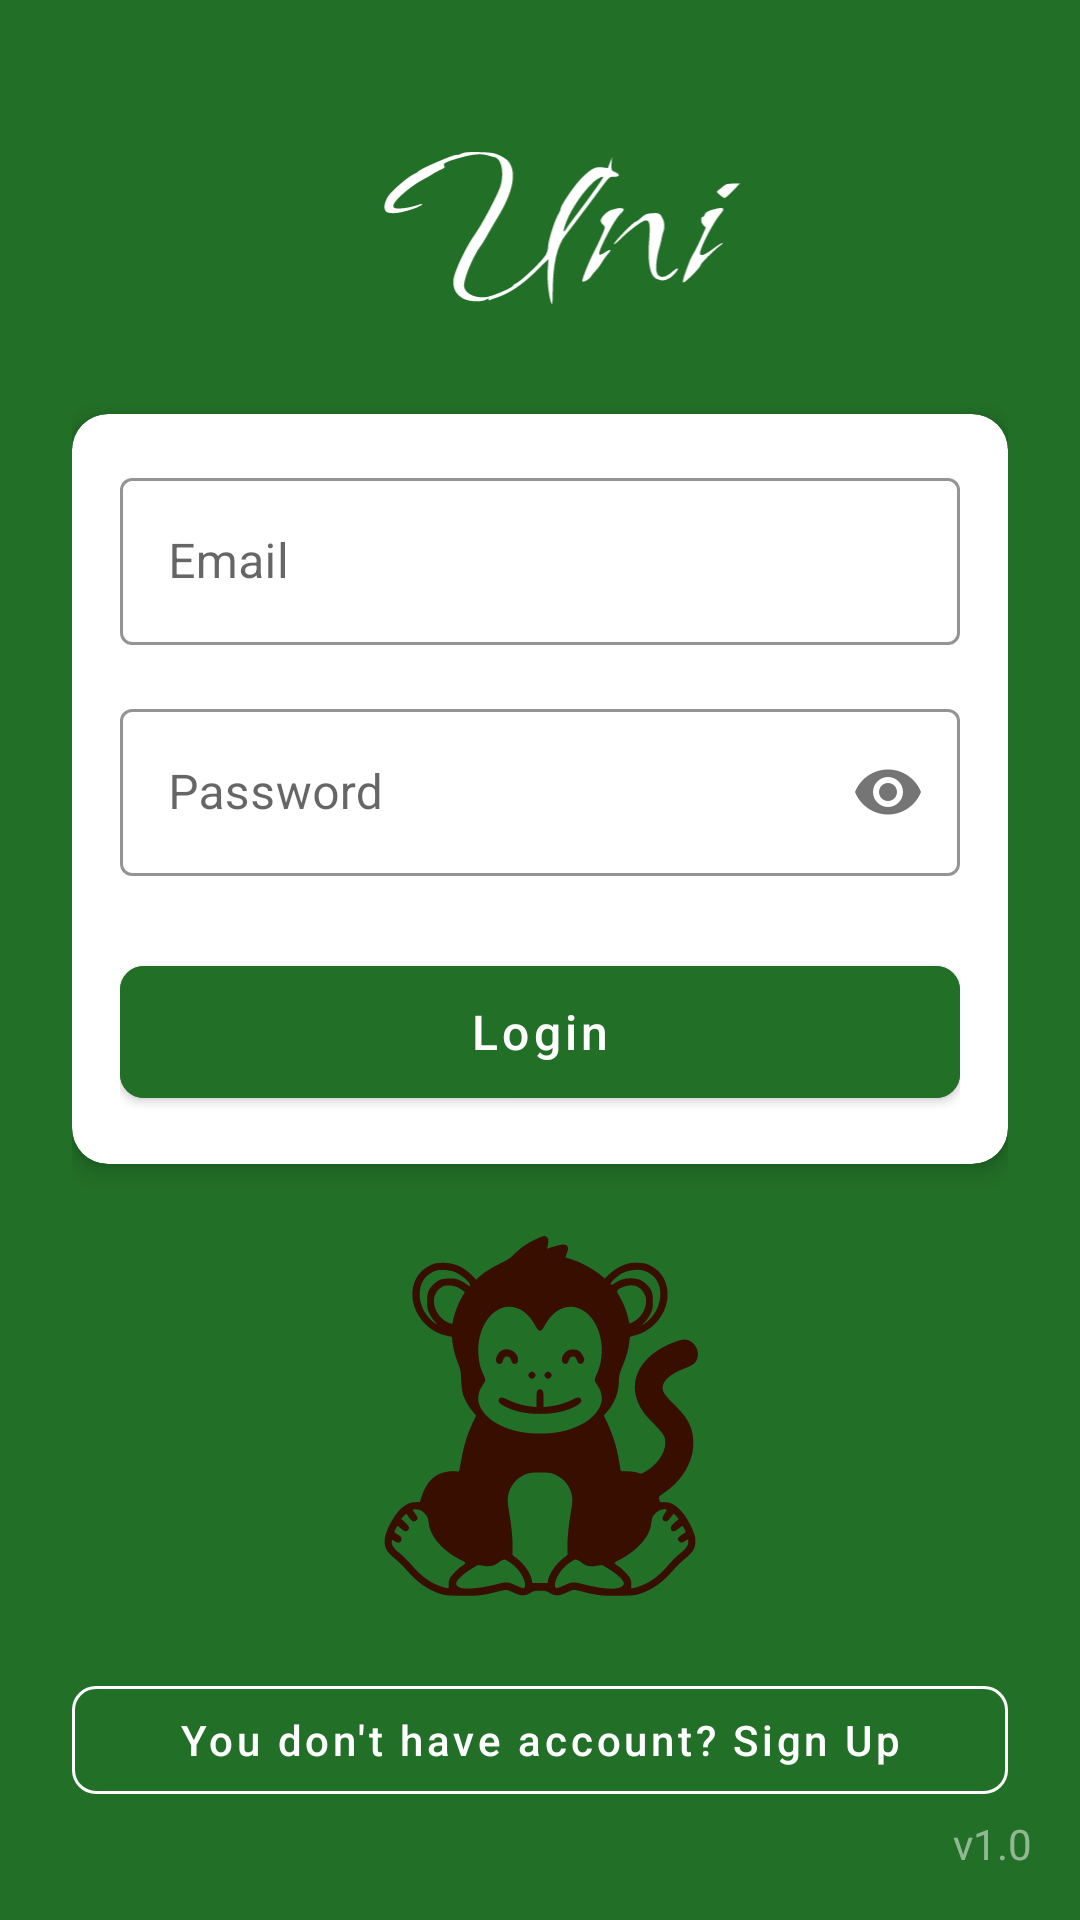

Point at icon controls on the screen. Image size 1080px x 1920px, points as (x=x, y=y).
monkey: (x=541, y=1416)
